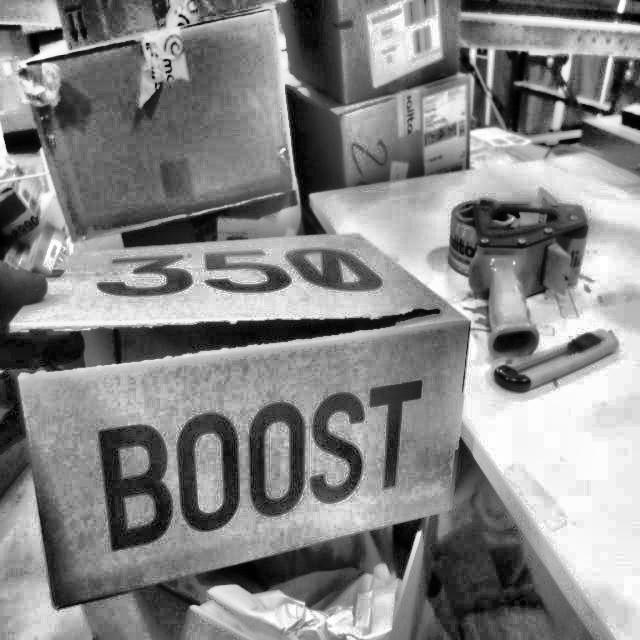box: (8, 218, 482, 617)
hole: (12, 307, 444, 391)
